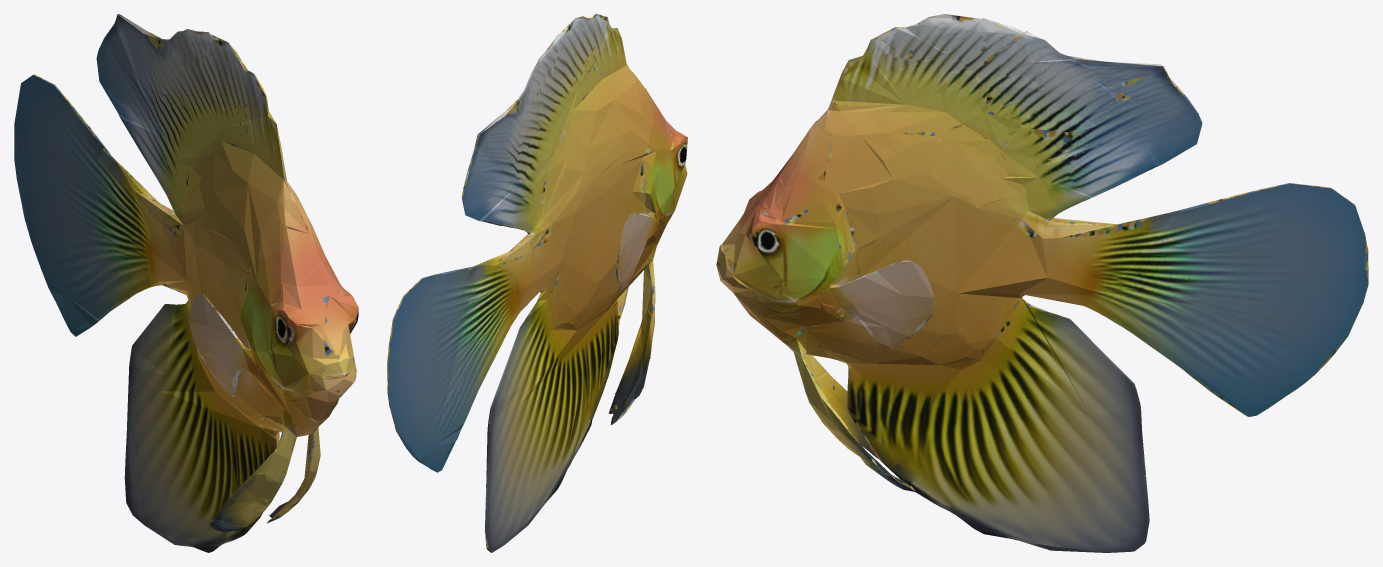
File: fish_0074_smpl23_resized.glb
3 views of the same model, side by side, from view 1: azimuth 30°, elevation 25°; view 2: azimuth 150°, elevation 25°; view 3: azimuth 270°, elevation 25° (orthographic). The views are drawn at different scales.
Parts seen in each view (by area): view 1: world; view 2: world; view 3: world.
Part boxes in pixels (bbox=[...]): world: bbox=[14, 14, 358, 552]; world: bbox=[387, 14, 687, 552]; world: bbox=[716, 14, 1368, 552].
Bounding box in the file's own units: 0.3158 × 1.82 × 1.99.
Materials: 1 (1 with a texture image).
